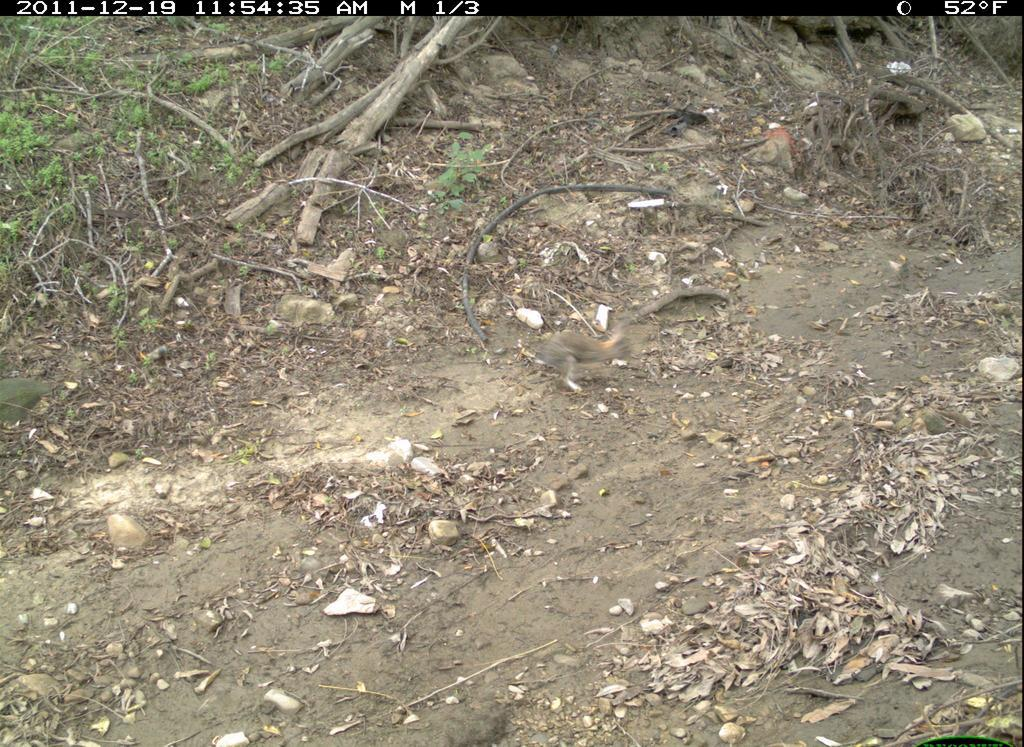rabbit: (528, 312, 664, 410)
